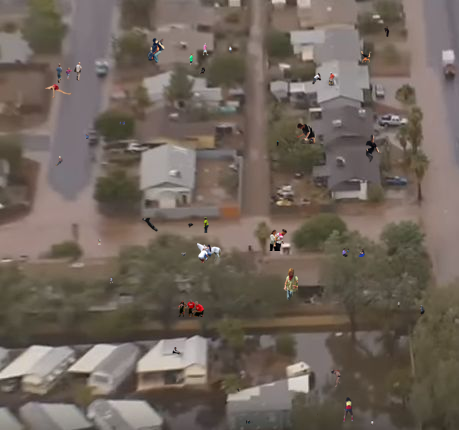Human: (56, 62, 82, 83), (397, 301, 425, 320), (195, 243, 221, 263), (365, 134, 382, 164), (177, 299, 205, 317), (142, 216, 173, 232), (283, 268, 298, 301), (188, 43, 209, 66), (147, 38, 165, 63), (296, 123, 316, 144), (269, 229, 287, 251), (45, 84, 72, 98), (187, 217, 209, 233), (312, 72, 335, 86), (342, 397, 354, 422), (342, 248, 365, 257), (331, 369, 341, 387), (361, 51, 372, 63), (55, 156, 63, 166), (384, 26, 391, 37), (172, 347, 181, 355), (275, 139, 282, 147), (199, 67, 205, 74), (317, 412, 326, 416), (246, 420, 253, 424), (84, 134, 89, 139), (110, 277, 113, 285), (119, 121, 125, 125), (229, 46, 232, 54), (181, 252, 186, 256), (237, 387, 241, 392), (98, 239, 101, 245), (191, 244, 194, 250), (371, 420, 374, 426)
